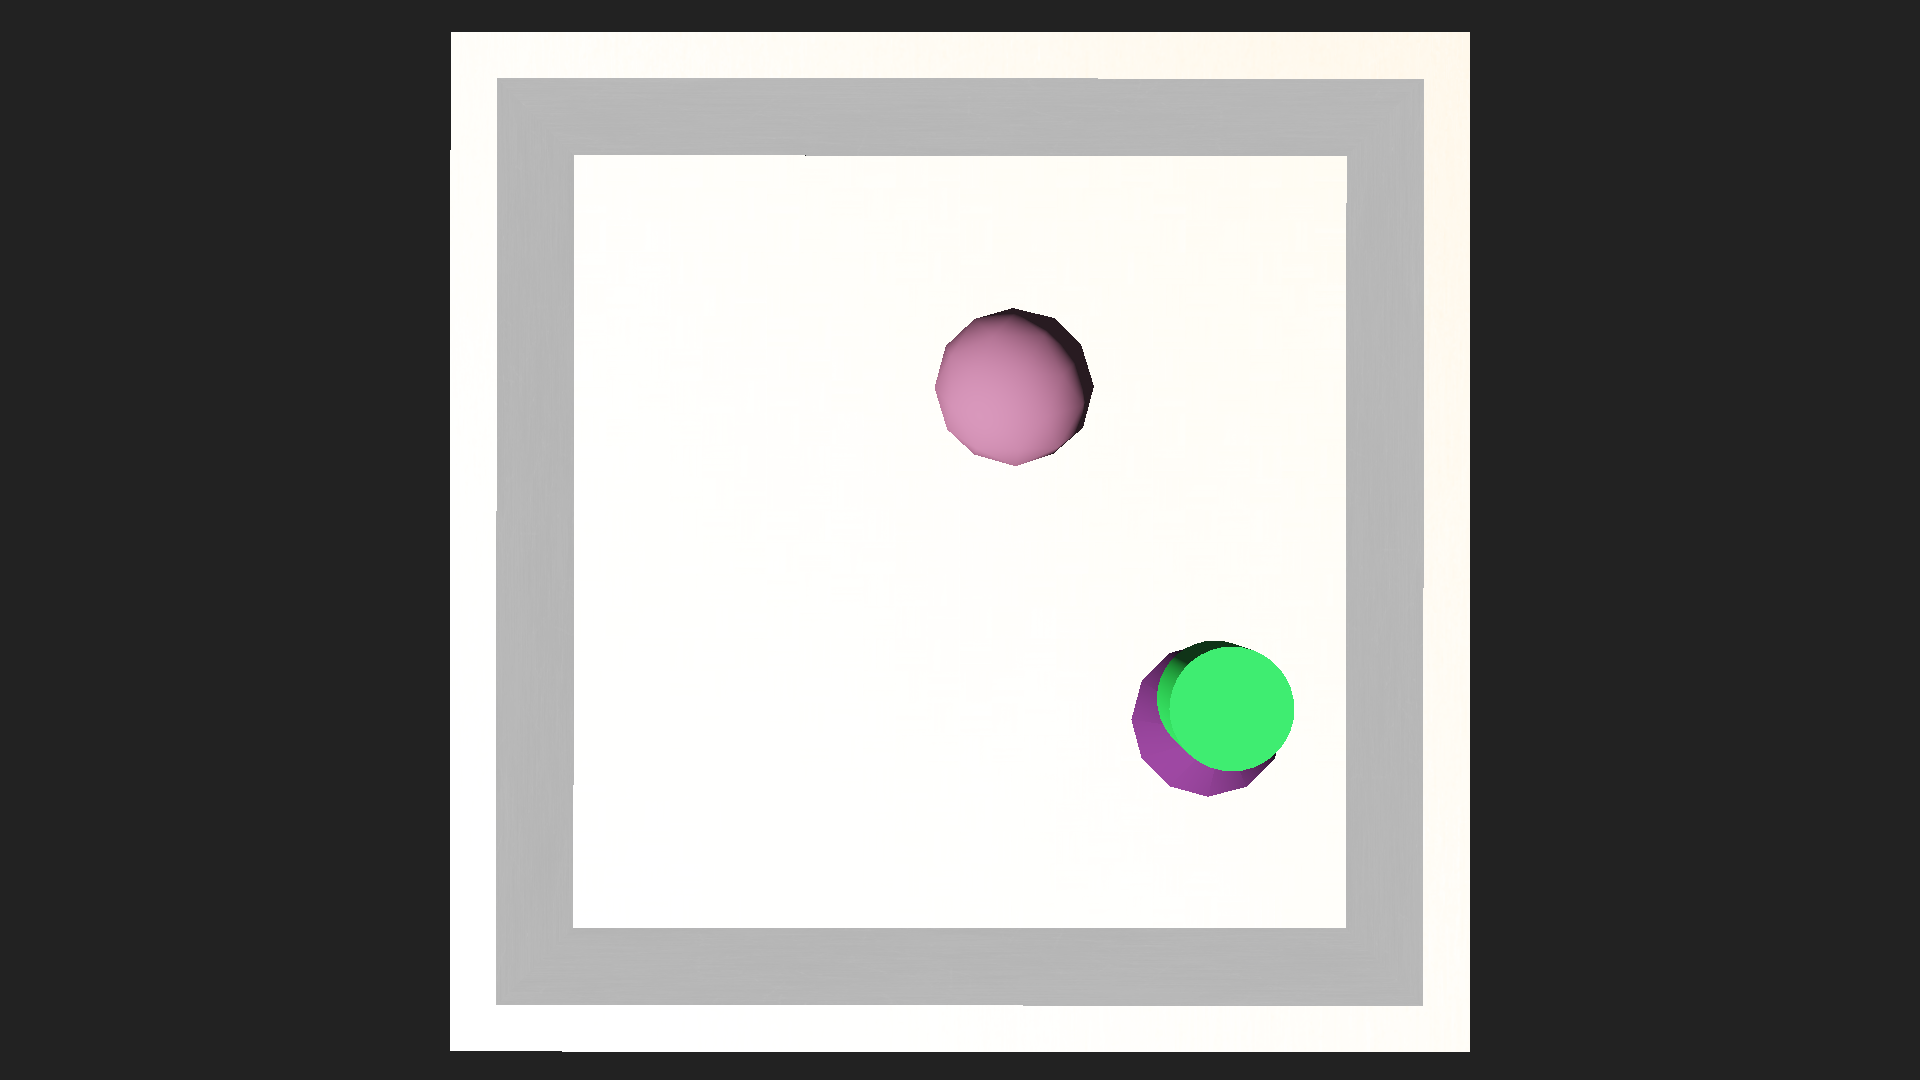cone: (1154, 638, 1296, 771)
sphere: (934, 306, 1093, 465)
